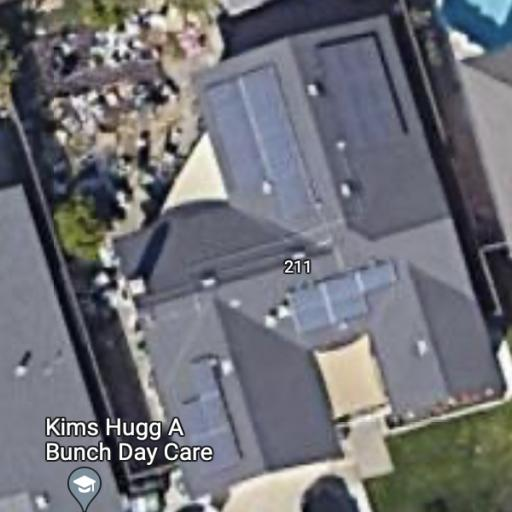Solar-Slope-Roof: (118, 17, 507, 498)
